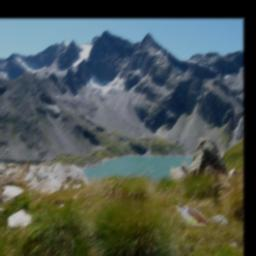Cuckoo: (172, 204, 209, 227)
